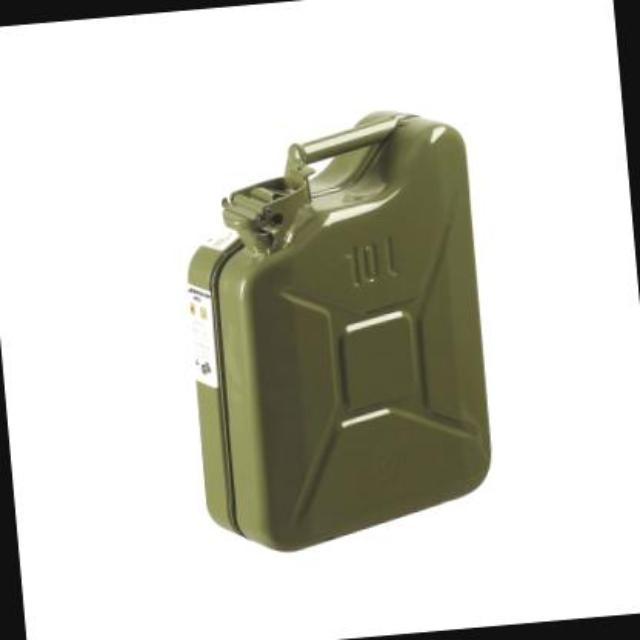chemical_plastic_gallon: (165, 98, 505, 564)
